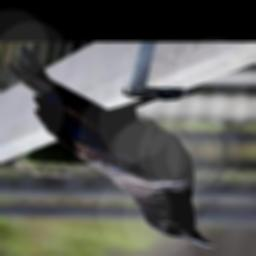Crow: (3, 47, 215, 248)
